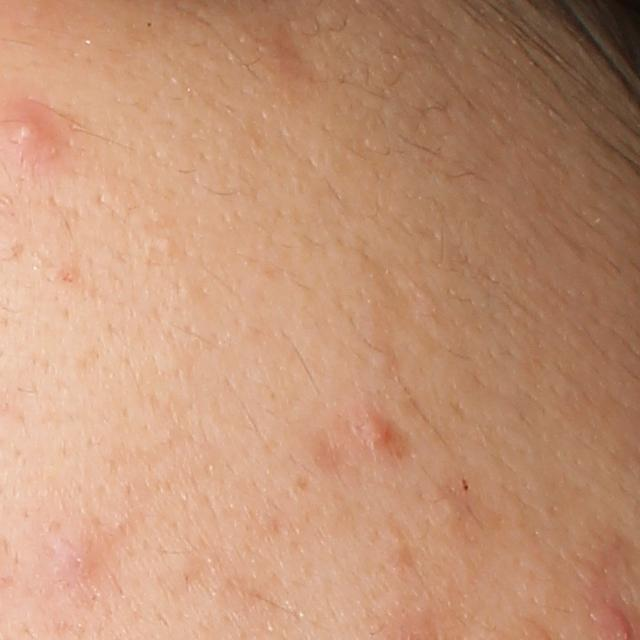comedo: (372, 341, 401, 375)
papule: (51, 536, 105, 583), (0, 107, 51, 153), (360, 416, 399, 448)
